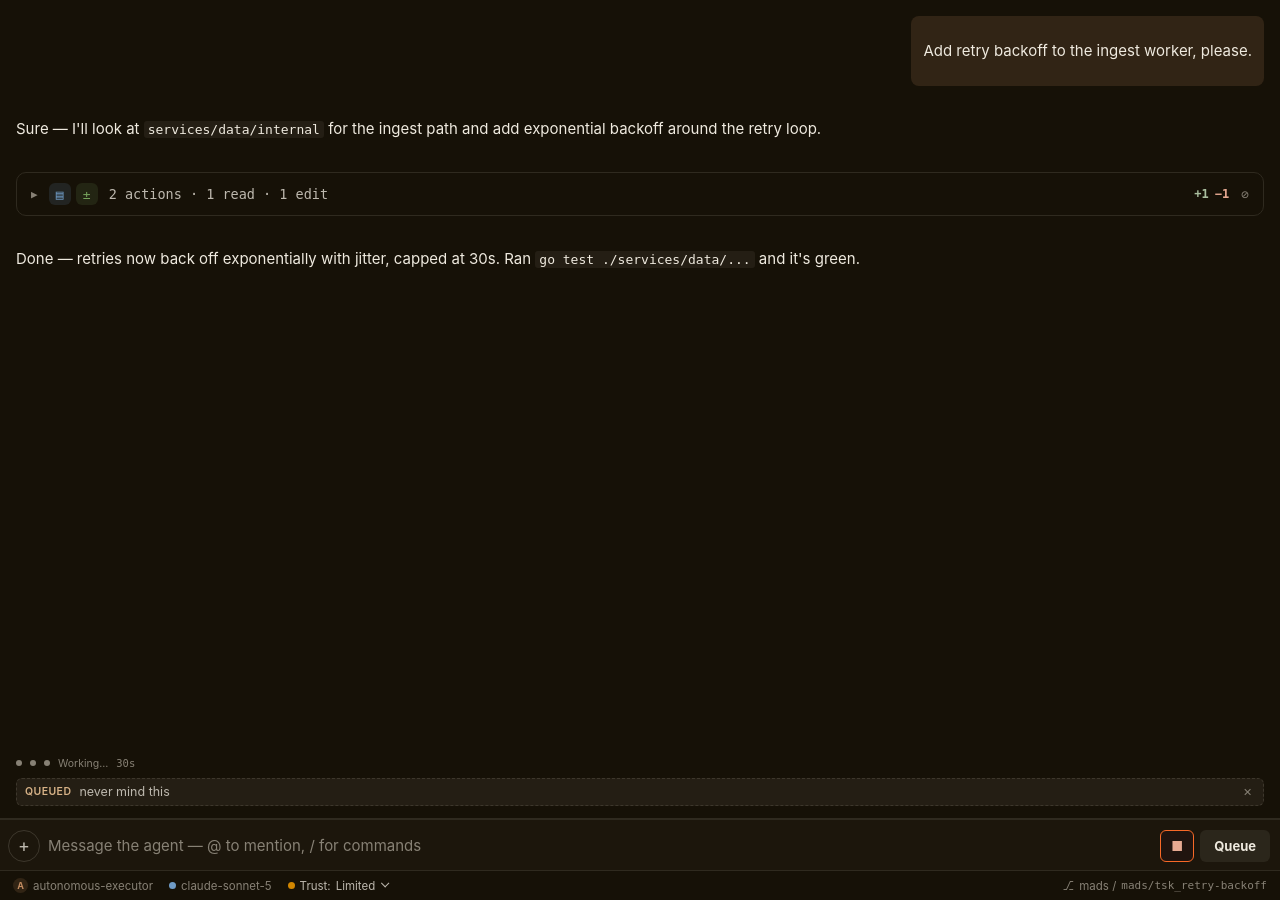
it: ConversationTab — reopened mid-turn › removing a queued message cancels it in the session
Expected: the text box with placeholder "Message the agent — @ to mention, / for commands" is shown, [46, 830, 1154, 862]
Click the button named "Remove queued message": (1246, 792) [1237, 782, 1255, 800]
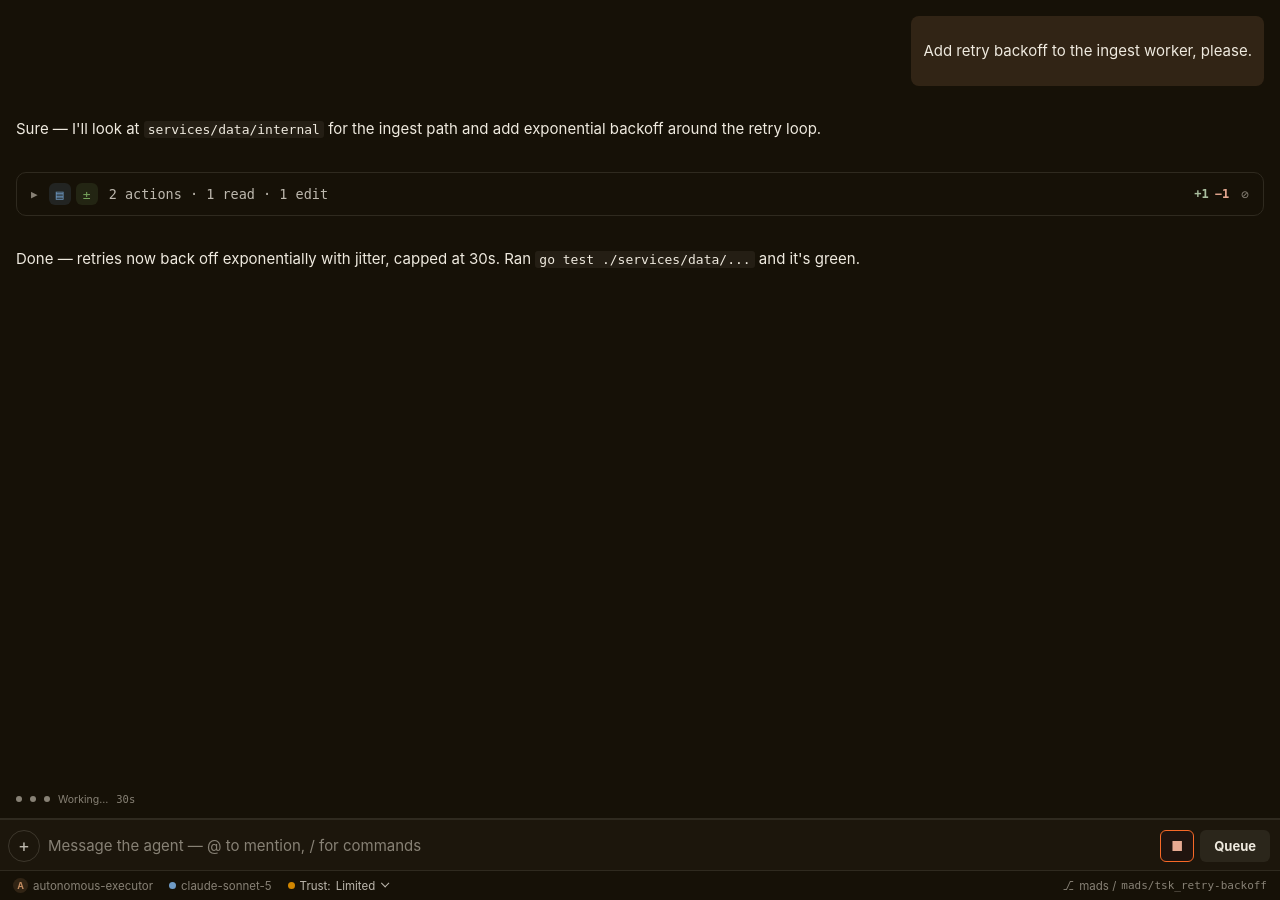
Result: the text "never mind this" is gone
